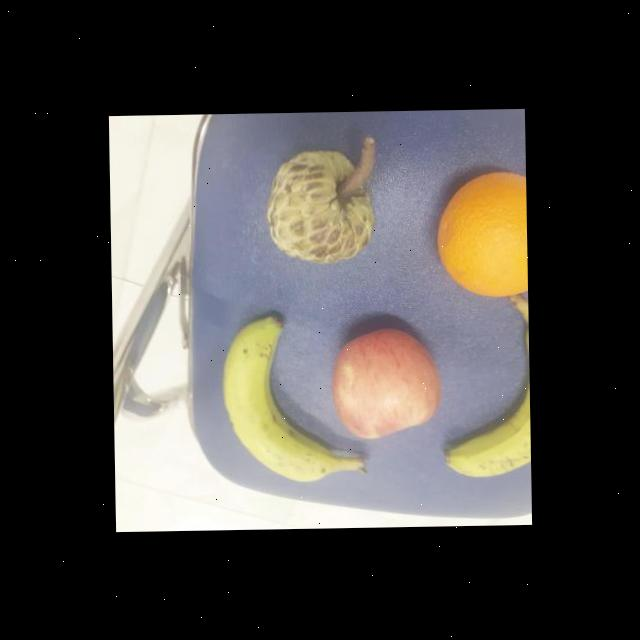Sakya fruit: (254, 140, 382, 270)
apple: (321, 322, 446, 443)
banana: (215, 304, 338, 494), (440, 296, 530, 479)
orange: (437, 164, 528, 300)
